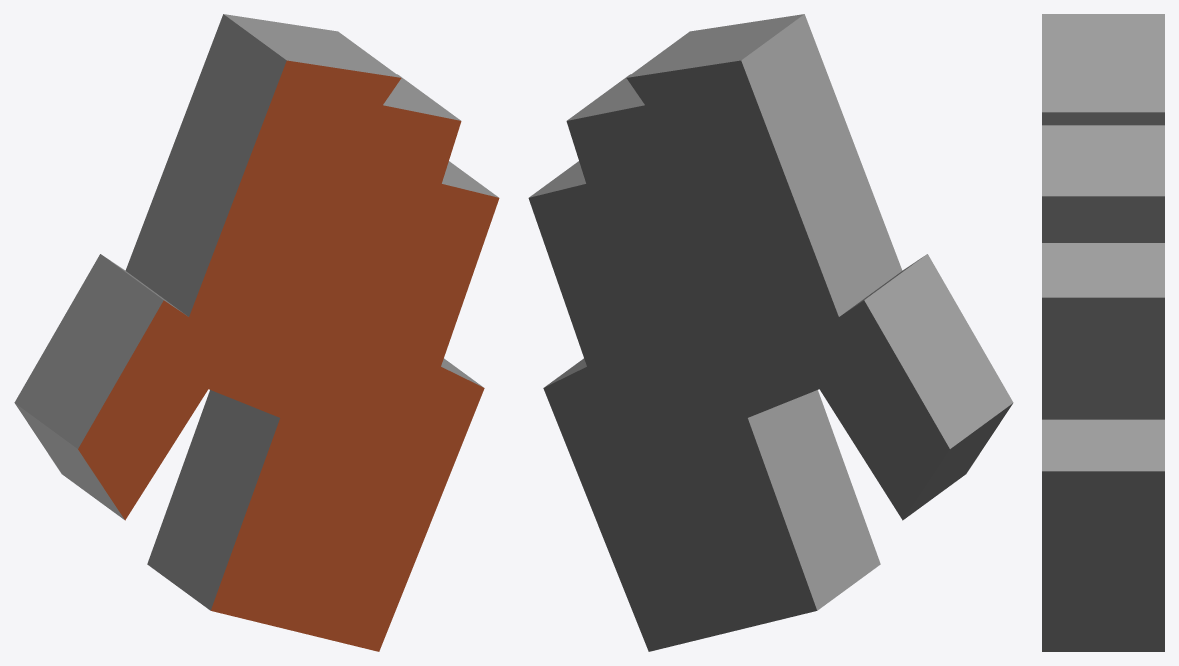
The model's file is construction_5596_assumed_A_Casa_h6m.obj.
3 renders of one model, left to right at view 1: azimuth 30°, elevation 25°; view 2: azimuth 150°, elevation 25°; view 3: azimuth 270°, elevation 25°, orthographic. The views are drawn at different scales.
Parts seen in each view (by area): view 1: construction_5596_assumed_A_Casa; view 2: construction_5596_assumed_A_Casa; view 3: construction_5596_assumed_A_Casa.
Part boxes in pixels (x1,y1,x2,y2): construction_5596_assumed_A_Casa: [14, 14, 499, 651]; construction_5596_assumed_A_Casa: [528, 14, 1013, 651]; construction_5596_assumed_A_Casa: [1042, 14, 1164, 651].
Bounding box in the file's own units: 23 × 32.01 × 6.
